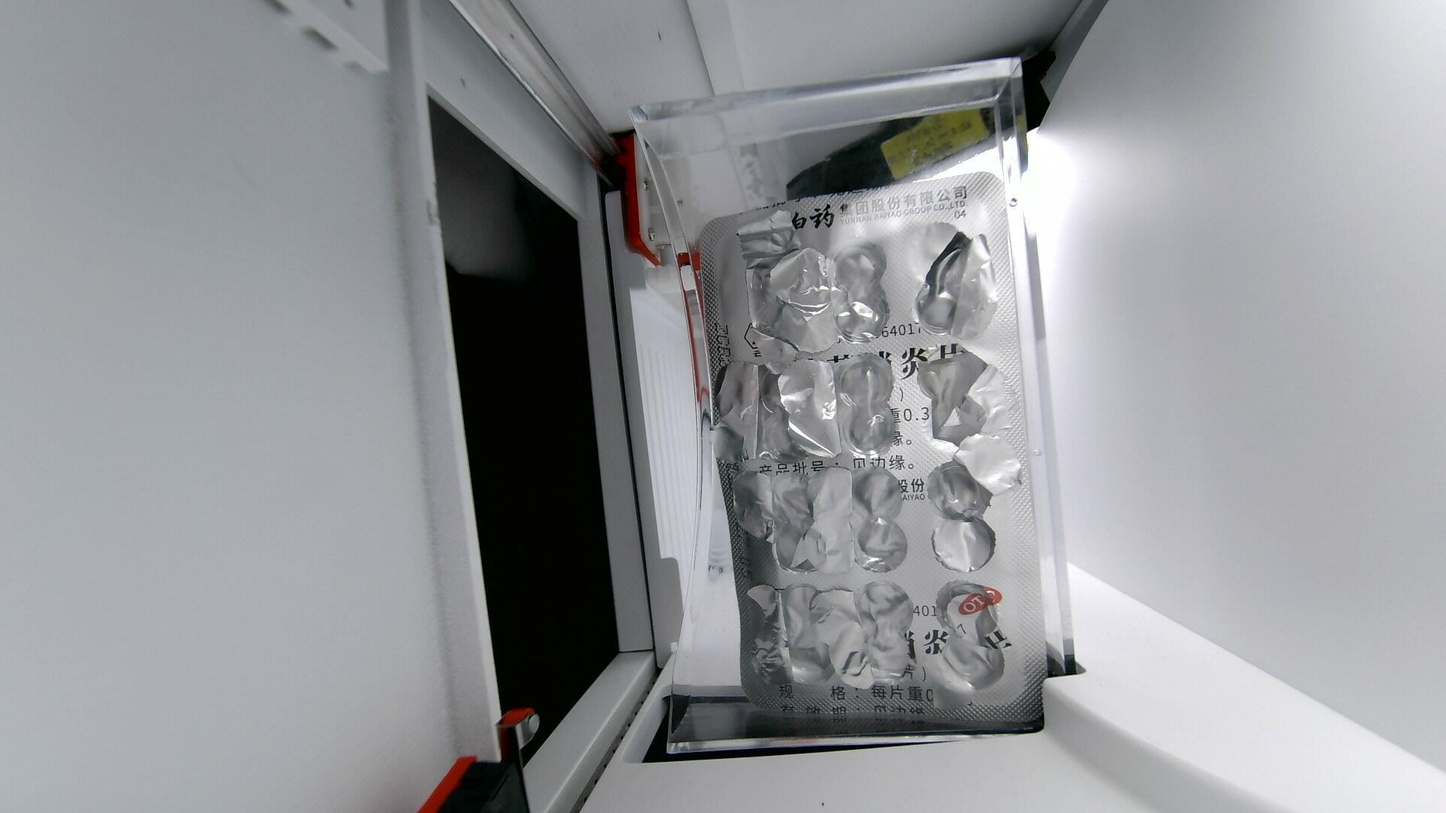No Pill Back: (756, 476, 844, 573), (735, 243, 810, 355), (923, 462, 999, 570), (825, 242, 900, 348), (735, 364, 821, 456), (911, 351, 995, 443), (847, 580, 921, 684), (765, 585, 838, 687), (851, 466, 914, 574), (830, 357, 901, 452), (914, 231, 981, 331), (937, 581, 1002, 682)
